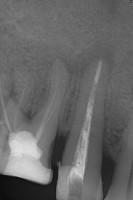Endo-Periodontal Lesion: (21, 80, 49, 120)
Furcation Involvement: (68, 41, 115, 79)
